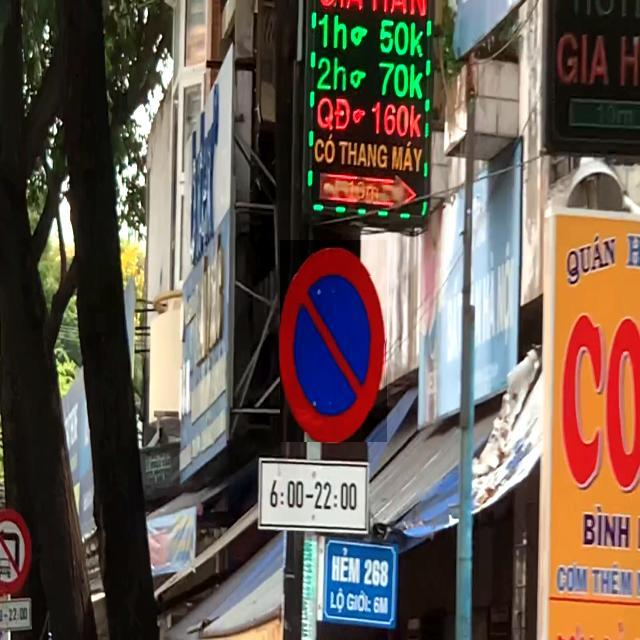P-131a: (280, 240, 387, 442)
